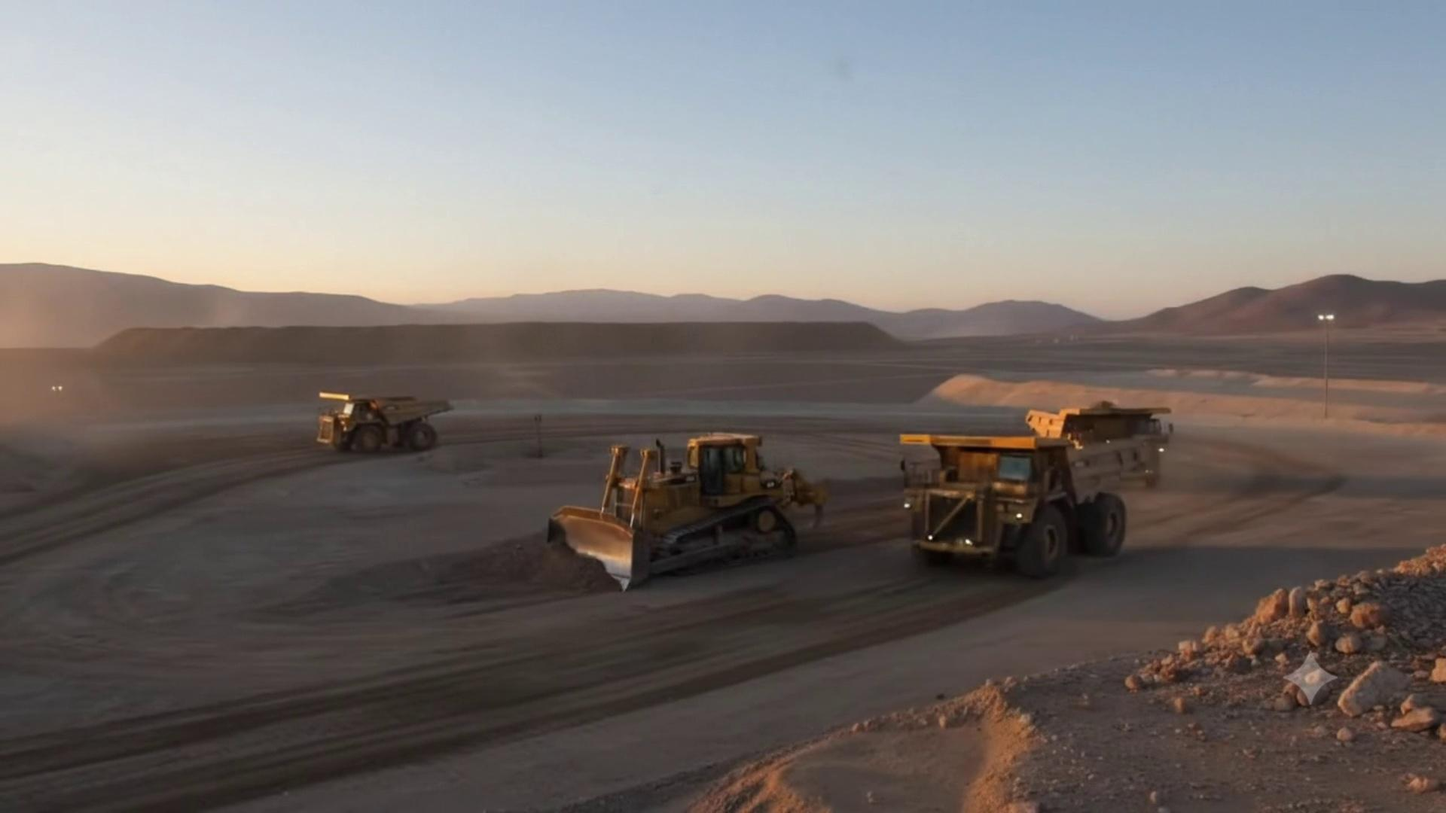CAEX: (899, 434, 1128, 578), (1027, 401, 1169, 488), (316, 392, 453, 453)
bulldozer: (548, 434, 827, 590)
